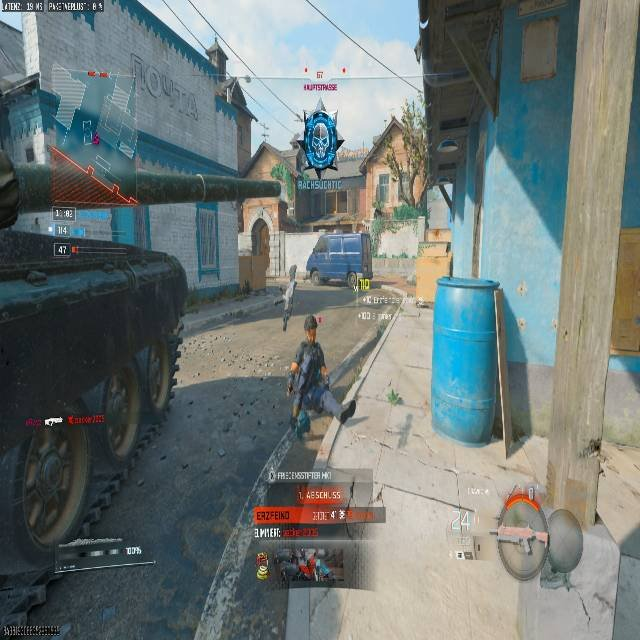head: (303, 313, 320, 341)
player: (288, 263, 297, 281)
